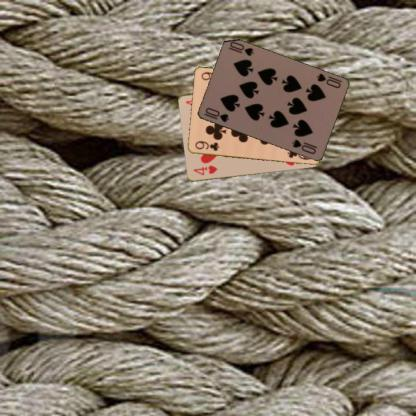10s: (201, 105, 230, 124), (314, 71, 342, 90)
4h: (191, 163, 218, 177)
9c: (192, 138, 221, 152)
